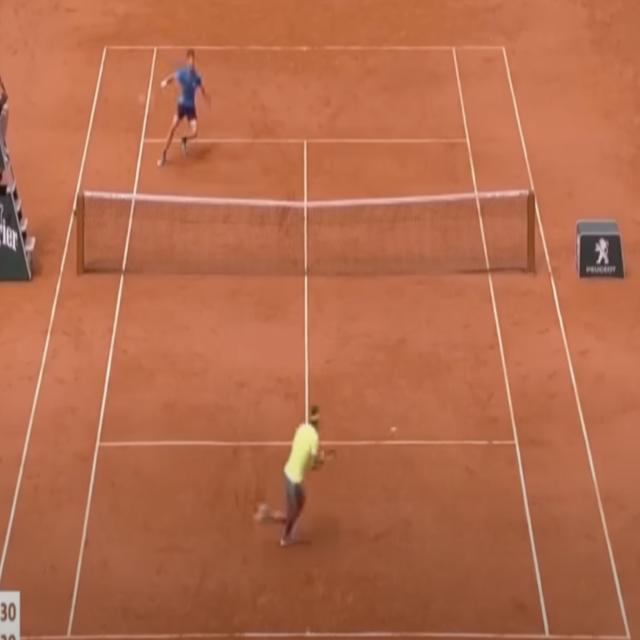ball: (390, 427, 397, 438)
